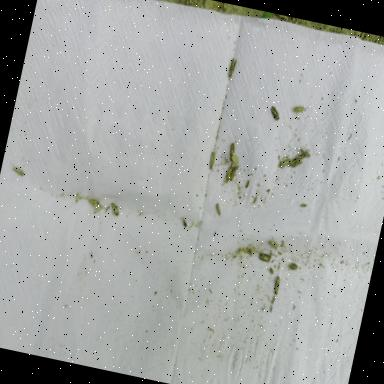pbw: (268, 104, 282, 122), (226, 142, 237, 162), (227, 54, 237, 76), (108, 200, 121, 215), (272, 274, 281, 294), (223, 164, 232, 184), (256, 250, 270, 262), (278, 155, 290, 168), (10, 165, 24, 176), (228, 162, 236, 181), (298, 146, 310, 158), (208, 150, 216, 168), (267, 238, 279, 249), (293, 104, 305, 115), (288, 155, 298, 168), (86, 196, 100, 205), (230, 152, 240, 164), (286, 262, 298, 271), (214, 201, 222, 214), (291, 158, 301, 168), (94, 203, 102, 214), (295, 152, 305, 159)
